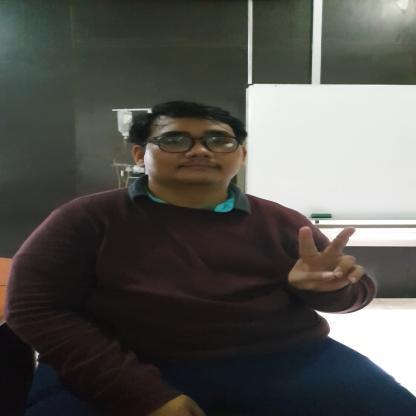V: (285, 225, 366, 294)
